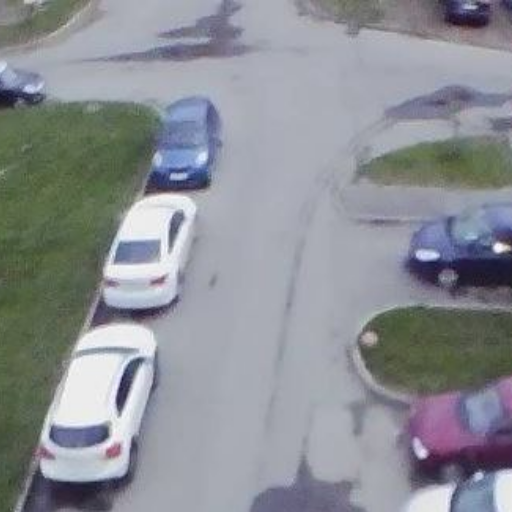Car: (34, 323, 154, 492), (98, 191, 197, 308), (406, 198, 509, 288), (410, 378, 509, 468), (146, 93, 219, 191), (399, 470, 511, 511), (0, 56, 47, 108), (442, 1, 493, 28)
